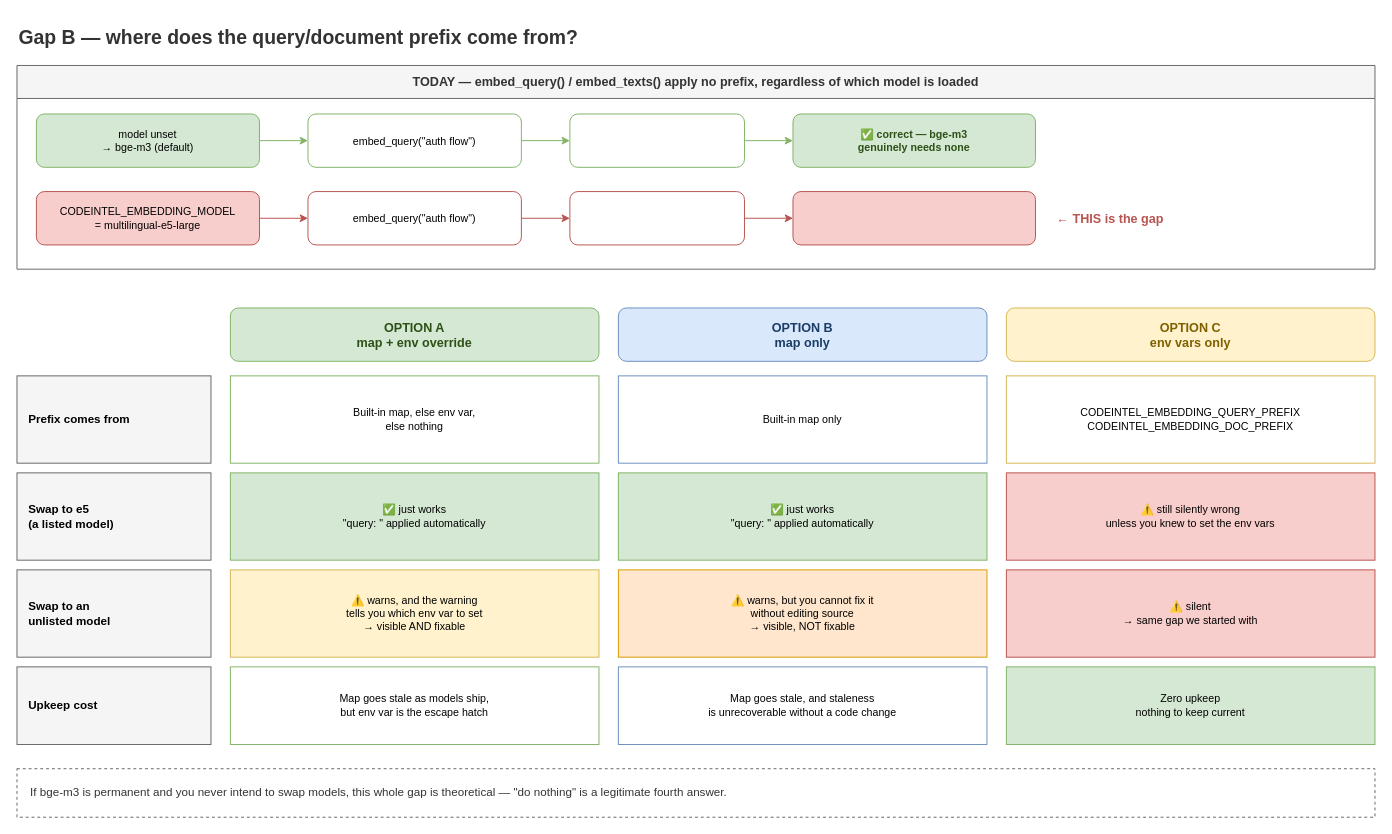
This 1392x834 diagram has some shape labels left out. Here are the shapes that lost their labels. From the top down, the centre of each, then its label:
point 656,140: no prefix added
point 656,218: no prefix added (needed "query: ")
point 913,218: ⚠️ SILENTLY DEGRADED no error, worse results
